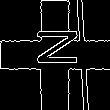N_W: (30, 35, 80, 75)
